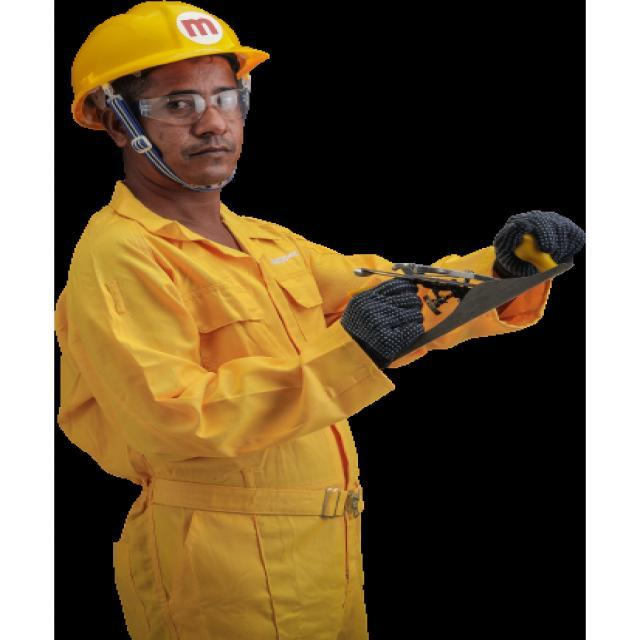safety_helmet: (66, 0, 270, 100)
